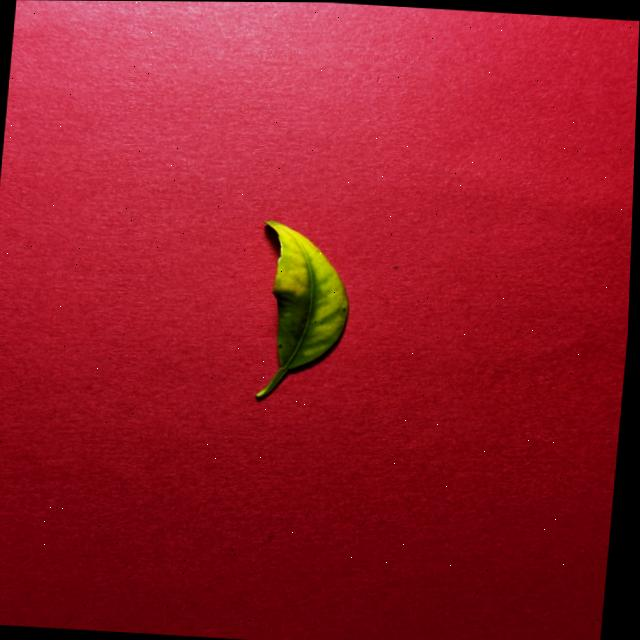greening: (256, 221, 349, 399)
